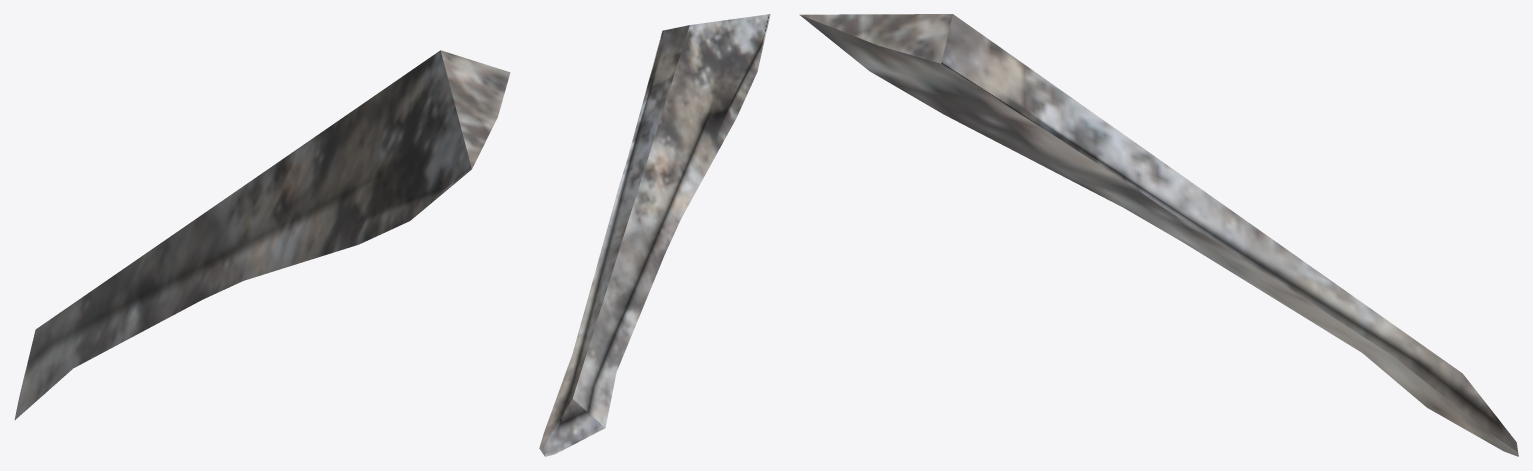
The model's file is Asteroid_Large_001_02_001_03_012.fbx.
The picture shows the model from 3 angles, left to right: view 1: azimuth 30°, elevation 25°; view 2: azimuth 150°, elevation 25°; view 3: azimuth 270°, elevation 25°; orthographic projection. The views are drawn at different scales.
Visible parts, largest first — view 1: Asteroid_Large_001_02_001_03_012; view 2: Asteroid_Large_001_02_001_03_012; view 3: Asteroid_Large_001_02_001_03_012.
Part boxes in pixels (x1,y1,x2,y2): Asteroid_Large_001_02_001_03_012: (14,50,510,419); Asteroid_Large_001_02_001_03_012: (539,14,770,456); Asteroid_Large_001_02_001_03_012: (799,14,1518,456).
Size of the model in its own units: 1.42 by 4.17 by 5.8.
